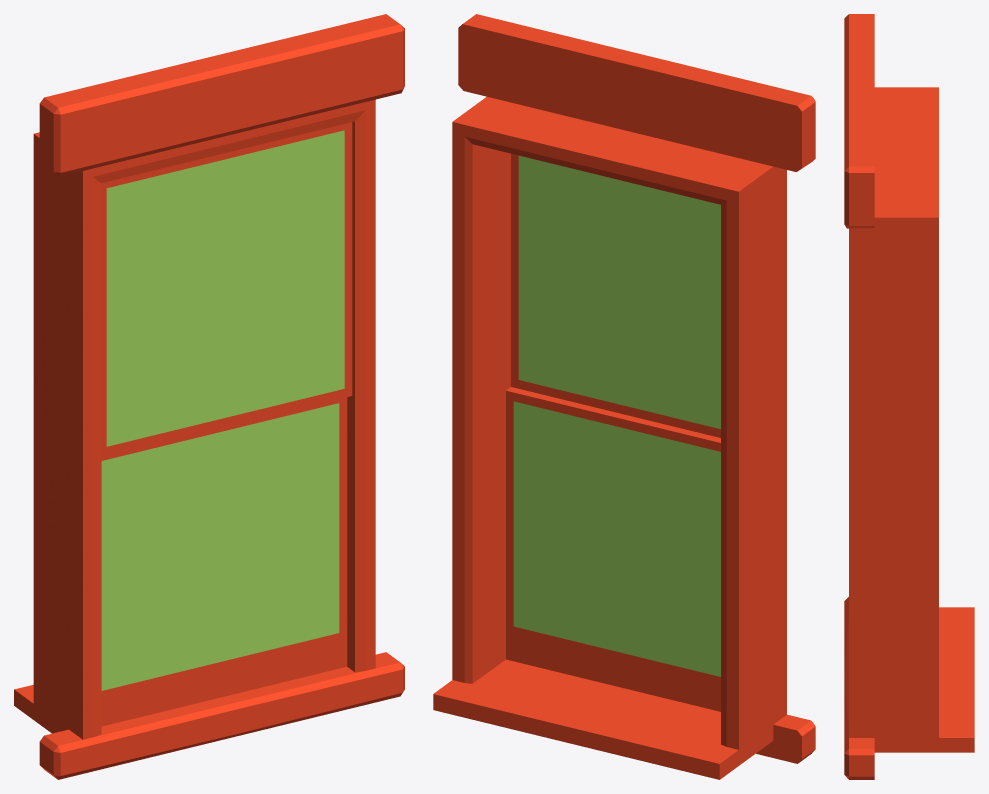
Rendered from SM_Window_A_City.fbx.
3 renders of one model, left to right at view 1: azimuth 30°, elevation 25°; view 2: azimuth 150°, elevation 25°; view 3: azimuth 270°, elevation 25°, orthographic. The views are drawn at different scales.
Visible parts, largest first — view 1: SM_Window_A_City_Frame, SM_Window_A_City_Glass_T, SM_Window_A_City_Glass_B; view 2: SM_Window_A_City_Frame, SM_Window_A_City_Glass_B, SM_Window_A_City_Glass_T; view 3: SM_Window_A_City_Frame.
Part boxes in pixels (<box>): SM_Window_A_City_Frame: <box>14,14,404,779</box>; SM_Window_A_City_Glass_T: <box>101,122,352,456</box>; SM_Window_A_City_Glass_B: <box>101,397,347,726</box>; SM_Window_A_City_Frame: <box>433,14,815,779</box>; SM_Window_A_City_Glass_B: <box>506,387,720,711</box>; SM_Window_A_City_Glass_T: <box>511,153,720,437</box>; SM_Window_A_City_Frame: <box>844,14,974,779</box>.
Size of the model in its own units: 1.15 by 2.11 by 0.4064.
